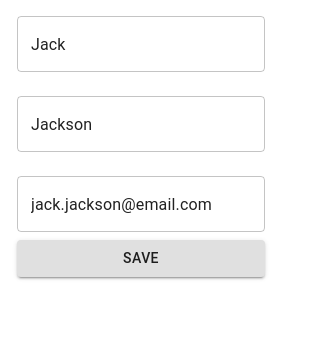
Profile › with invalid data › does not update user info
Clear the field with test id "first_name" at (141, 44), box [17,16,265,72]
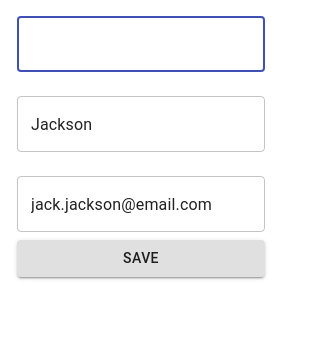
Clear the field with test id "last_name" at (141, 124), box [17,96,265,152]
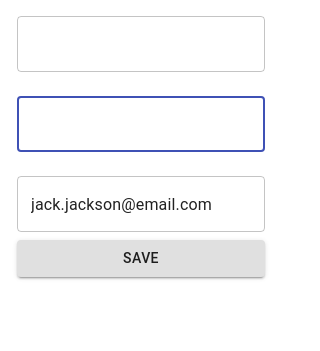
Clear the field with test id "email" at (141, 204), box [17,176,265,232]
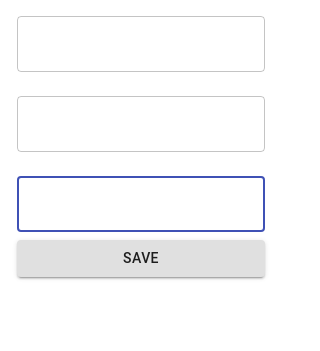
Click the button with test id "update-profile-button" at (141, 258), box [17,240,265,276]
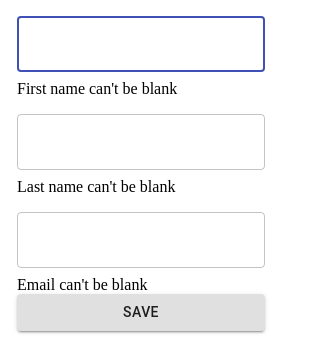
Check: the text "First name can't be blank" is shown, box [17,80,177,97]
Check: the text "Last name can't be blank" is shown, box [17,178,175,195]
Check: the text "Email can't be blank" is shown, box [17,276,147,293]
